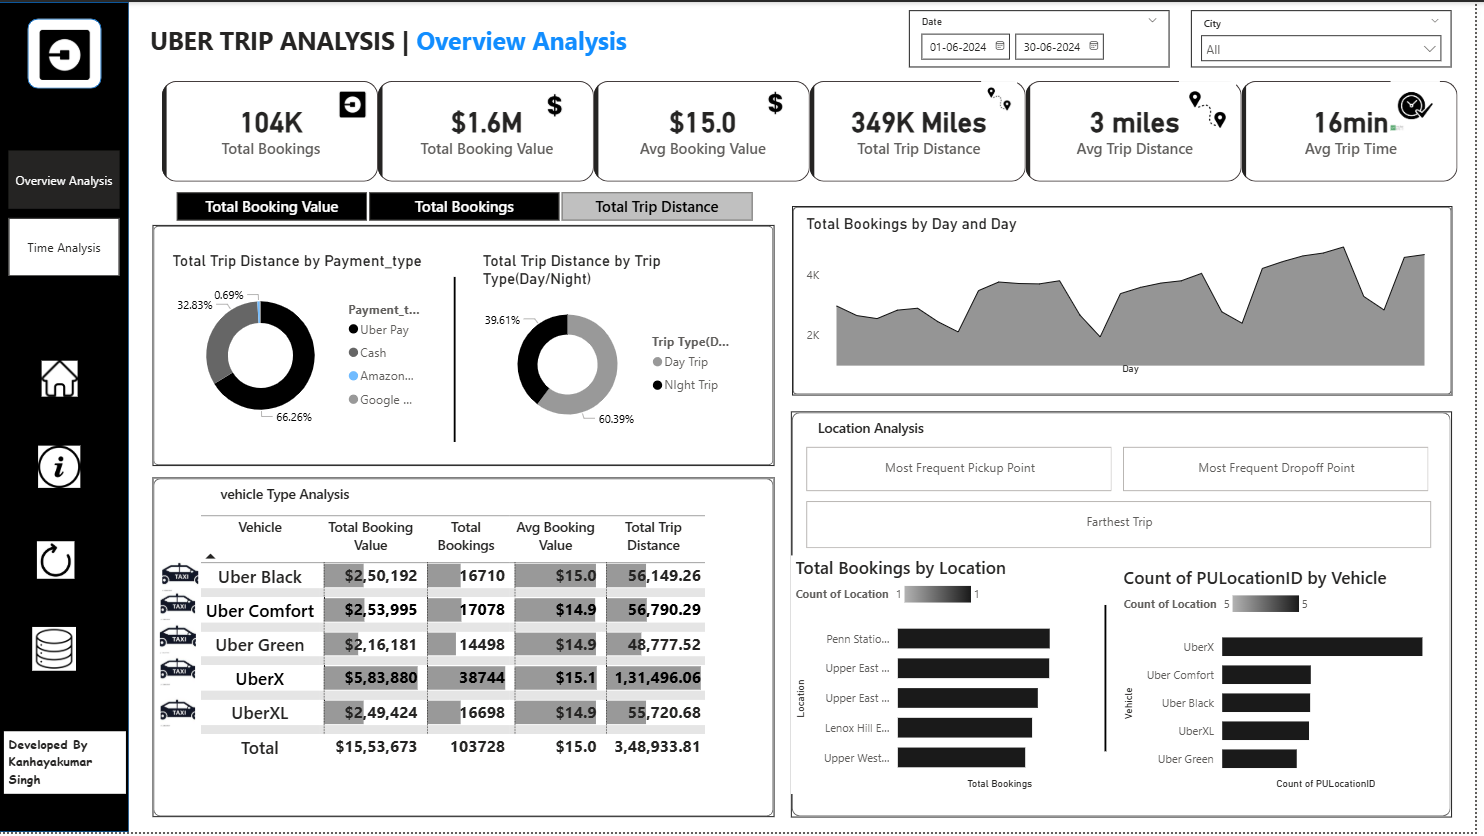

Layout of this report page (visuals, bound fields, positions):
{"tool":"powerbi","page":{"name":"Overview Analysis","canvas":[1600,900],"ordinal":0},"visuals":[{"type":"shape","box":[0,0,141.9,899.5],"z":0},{"type":"textbox","box":[141.3,18.3,561.9,51.5],"z":1000},{"type":"cardVisual","fields":{"Data":["Trip Details.Total Bookings","Trip Details.Total Booking Amount","Trip Details.Avg Booking Amount","Trip Details.Total Trip Distance","Trip Details.Avg Trip Distance","Trip Details.Avg Trip Time"]},"box":[173.2,80.2,1414.9,119.7],"z":2000},{"type":"image","box":[346.3,91.5,76,38],"z":3000},{"type":"image","box":[563.2,91.5,78.8,39.4],"z":4000},{"type":"image","box":[802.5,90.1,78.8,39.4],"z":5000},{"type":"image","box":[1471.2,80.2,128.1,63.4],"z":6000},{"type":"image","box":[1238.9,80.2,143.6,71.8],"z":7000},{"type":"image","box":[1033.4,80.2,104.2,49.3],"z":8000},{"type":"slicer","fields":{"Values":["Dynamic Measure .Dynamic Measure "]},"box":[167.7,199.8,673.6,41.9],"z":9000},{"type":"shape","box":[167.7,241.8,673.6,261.3],"z":10000},{"type":"donutChart","fields":{"Y":["Trip Details.Total Trip Distance Measure"],"Category":["Trip Details.Payment_type"]},"box":[184.5,269.7,282.3,206.8],"z":11000},{"type":"donutChart","fields":{"Y":["Trip Details.Total Trip Distance Measure"],"Category":["Trip Details.Trip Type(Day/Night)"]},"box":[519.9,269.7,282.3,206.8],"z":12000},{"type":"shape","box":[167.5,515.2,673.7,368.2],"z":13000},{"type":"pivotTable","fields":{"Rows":["Trip Details.Vehicle"],"Values":["Trip Details.Total Booking Value","Trip Details.Total Bookings","Trip Details.Avg Booking Value","Trip Details.Total Trip Distance Measure"]},"box":[214.8,551,609.8,306.8],"z":14000},{"type":"image","box":[142.5,630.3,103.4,44.7],"z":15000},{"type":"image","box":[142.5,665.2,103.4,46.1],"z":16000},{"type":"image","box":[142.5,700.1,103.4,44.7],"z":17000},{"type":"image","box":[142.5,744.9,103.4,44.7],"z":18000},{"type":"image","box":[145.3,596.7,103.4,46.1],"z":19000},{"type":"card","fields":{"Values":["Trip Details.Title for Grid"]},"box":[214.3,520.8,191.6,29.8],"z":20000},{"type":"shape","box":[860.1,220.7,715.4,205.2],"z":21000},{"type":"areaChart","fields":{"Category":["Calendar Table.Date.Variation.Date Hierarchy.Day","Calendar Table.Date.Variation.Date Hierarchy.Day"],"Y":["Trip Details.Total Bookings"]},"box":[870,230.5,688.7,178.5],"z":22000},{"type":"shape","box":[859.1,443.6,715.9,439.8],"z":23000},{"type":"cardVisual","fields":{"Data":["Trip Details.Most Frequent Pickup Point","Trip Details.Most Frequent Dropoff Point"]},"box":[870.6,476.5,684.8,58.7],"z":24000},{"type":"cardVisual","fields":{"Data":["Trip Details.Farthest Trip"]},"box":[870.6,535.2,687.6,61.5],"z":25000},{"type":"barChart","fields":{"Category":["Location Table.Location"],"Y":["Trip Details.Total Bookings"]},"box":[859.1,599.6,341.3,258.2],"z":26000},{"type":"barChart","fields":{"Y":["CountNonNull(Trip Details.PULocationID)"],"Category":["Trip Details.Vehicle"]},"box":[1214.5,609.8,341.3,248],"z":27000},{"type":"shape","box":[346.4,297.9,296.6,179],"z":28000},{"type":"shape","box":[1053.4,653.3,292.7,158.5],"z":29000},{"type":"card","fields":{"Values":["Trip Details.Title for Location"]},"box":[870.6,450,149.6,26.8],"z":30000},{"type":"slicer","fields":{"Values":["Calendar Table.Date"]},"box":[986.6,8.4,282.3,61.5],"z":31000},{"type":"slicer","fields":{"Values":["Location Table.City"]},"box":[1292.7,8.4,282.3,61.5],"z":32000},{"type":"shape","box":[32.3,18.3,80.1,75.9],"z":33000},{"type":"image","box":[37.9,23.9,67.4,66],"z":34000},{"type":"pageNavigator","box":[11.2,161.6,120.9,136.3],"z":35000},{"type":"image","box":[39.4,383.7,54.8,49.2],"z":36000},{"type":"image","box":[37.9,473.6,56.2,60.4],"z":37000},{"type":"image","box":[36.5,579,50.6,50.6],"z":38000},{"type":"image","box":[32.3,666.2,57.6,68.9],"z":39000},{"type":"textbox","box":[7,789.8,132.1,67.5],"z":40000}]}

Visuals, with their boxes on the page's 1600x900 design canvas (x1, y1, x2, y2). These are canvas units, not pixel positions in the 1484x836 screenshot, which may show the page scaled, cropped or inside an application window:
shape: left=0, top=0, right=142, bottom=900
textbox: left=141, top=18, right=703, bottom=70
cardVisual - Trip Details.Total Bookings x Trip Details.Total Booking Amount: left=173, top=80, right=1588, bottom=200
image: left=346, top=92, right=422, bottom=130
image: left=563, top=92, right=642, bottom=131
image: left=802, top=90, right=881, bottom=130
image: left=1471, top=80, right=1599, bottom=144
image: left=1239, top=80, right=1382, bottom=152
image: left=1033, top=80, right=1138, bottom=130
slicer - Dynamic Measure .Dynamic Measure : left=168, top=200, right=841, bottom=242
shape: left=168, top=242, right=841, bottom=503
donutChart - Trip Details.Total Trip Distance Measure x Trip Details.Payment_type: left=184, top=270, right=467, bottom=476
donutChart - Trip Details.Total Trip Distance Measure x Trip Details.Trip Type(Day/Night): left=520, top=270, right=802, bottom=476
shape: left=168, top=515, right=841, bottom=883
pivotTable - Trip Details.Vehicle x Trip Details.Total Booking Value: left=215, top=551, right=825, bottom=858
image: left=142, top=630, right=246, bottom=675
image: left=142, top=665, right=246, bottom=711
image: left=142, top=700, right=246, bottom=745
image: left=142, top=745, right=246, bottom=790
image: left=145, top=597, right=249, bottom=643
card - Trip Details.Title for Grid: left=214, top=521, right=406, bottom=551
shape: left=860, top=221, right=1576, bottom=426
areaChart - Calendar Table.Date.Variation.Date Hierarchy.Day x Calendar Table.Date.Variation.Date Hierarchy.Day: left=870, top=230, right=1559, bottom=409
shape: left=859, top=444, right=1575, bottom=883
cardVisual - Trip Details.Most Frequent Pickup Point x Trip Details.Most Frequent Dropoff Point: left=871, top=476, right=1555, bottom=535
cardVisual - Trip Details.Farthest Trip: left=871, top=535, right=1558, bottom=597
barChart - Location Table.Location x Trip Details.Total Bookings: left=859, top=600, right=1200, bottom=858
barChart - CountNonNull(Trip Details.PULocationID) x Trip Details.Vehicle: left=1214, top=610, right=1556, bottom=858
shape: left=346, top=298, right=643, bottom=477
shape: left=1053, top=653, right=1346, bottom=812
card - Trip Details.Title for Location: left=871, top=450, right=1020, bottom=477
slicer - Calendar Table.Date: left=987, top=8, right=1269, bottom=70
slicer - Location Table.City: left=1293, top=8, right=1575, bottom=70
shape: left=32, top=18, right=112, bottom=94
image: left=38, top=24, right=105, bottom=90
pageNavigator: left=11, top=162, right=132, bottom=298
image: left=39, top=384, right=94, bottom=433
image: left=38, top=474, right=94, bottom=534
image: left=36, top=579, right=87, bottom=630
image: left=32, top=666, right=90, bottom=735
textbox: left=7, top=790, right=139, bottom=857
